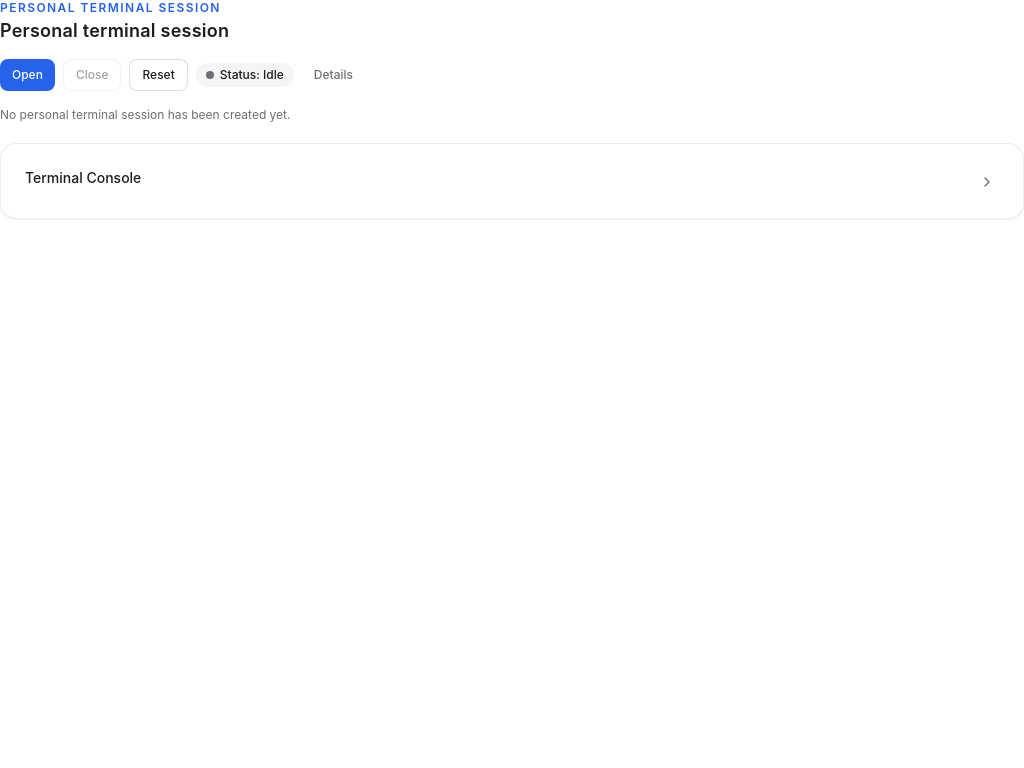
it: TerminalBenchCard › attaches a personal terminal session when the user clicks Attach
Expected: the text "Status: Idle" is shown, [196,62,294,86]
Click the button "Open". click: coordinates (27, 74)
box: [0,58,55,90]
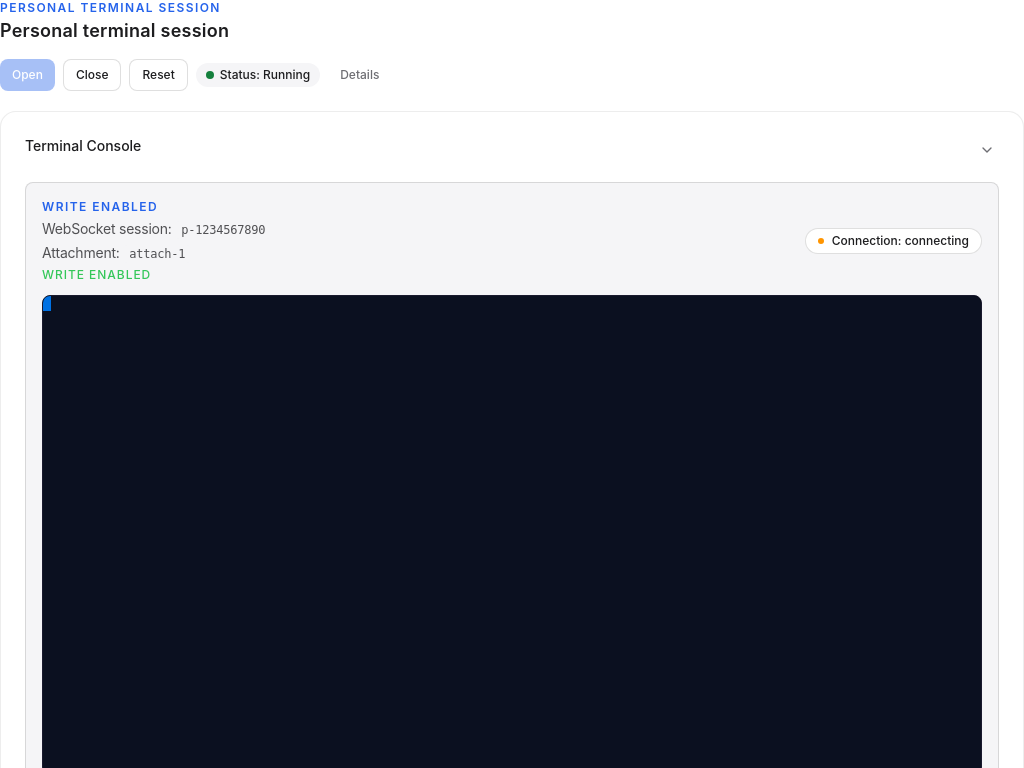
Result: the text "Status: Running" is shown at [196,62,320,86]
Result: the button "Close" is enabled at [63,58,122,90]
